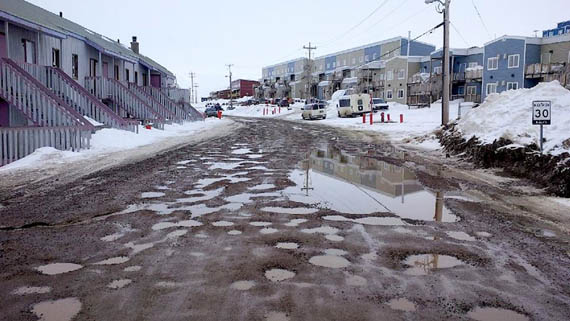potholeGroup: (198, 145, 491, 321), (6, 200, 363, 315)
